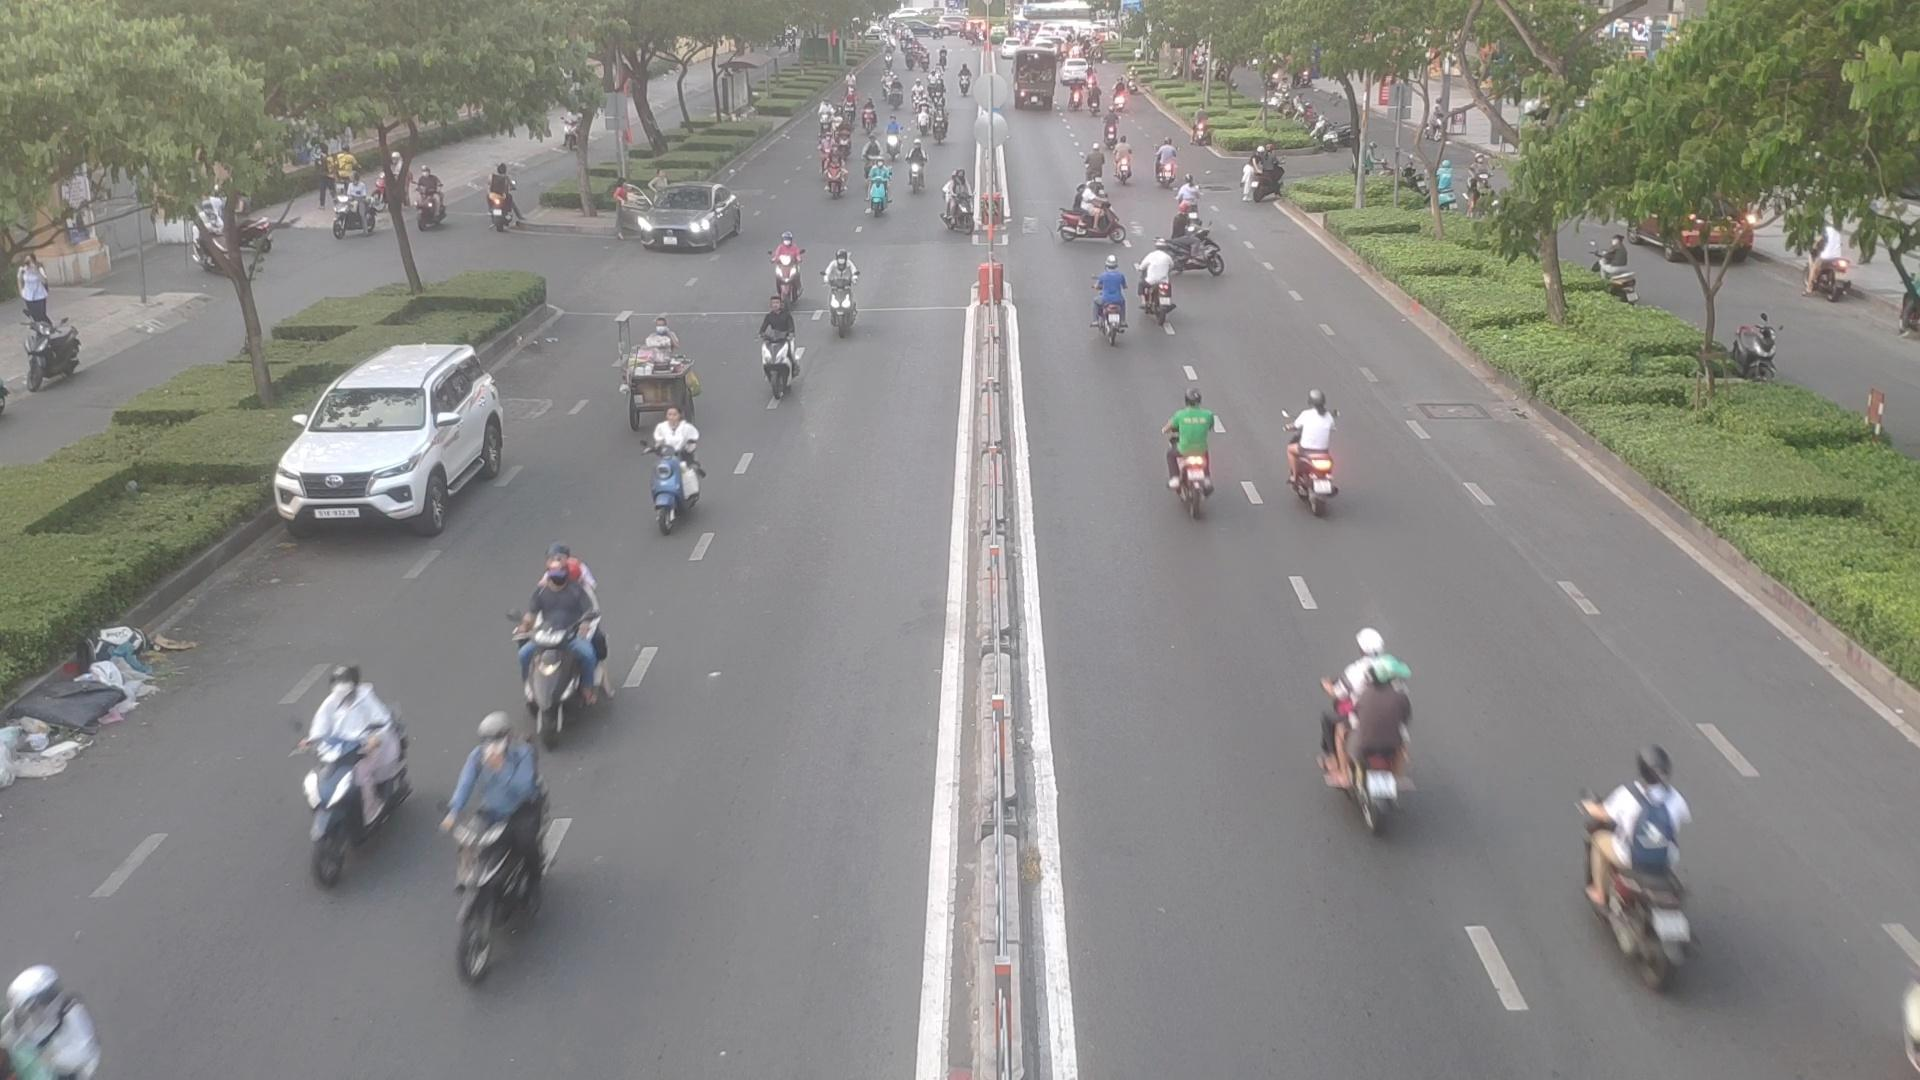car: (280, 345, 518, 535), (622, 189, 754, 256)
motorbike: (1588, 764, 1713, 989), (446, 721, 566, 943), (293, 666, 411, 882), (1309, 622, 1423, 824), (524, 556, 618, 724), (0, 955, 103, 1075), (1149, 392, 1216, 516), (644, 409, 708, 526), (1286, 392, 1342, 512), (756, 301, 815, 396), (818, 255, 869, 343), (1084, 264, 1130, 344), (1058, 195, 1124, 248), (1137, 249, 1179, 328), (1168, 216, 1222, 276), (856, 164, 895, 220), (1104, 138, 1134, 179)
